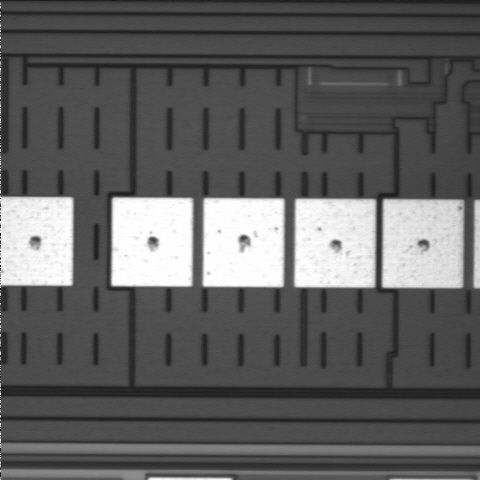pad: (111, 198, 193, 287), (294, 199, 376, 288), (203, 198, 284, 287), (382, 199, 463, 288)
